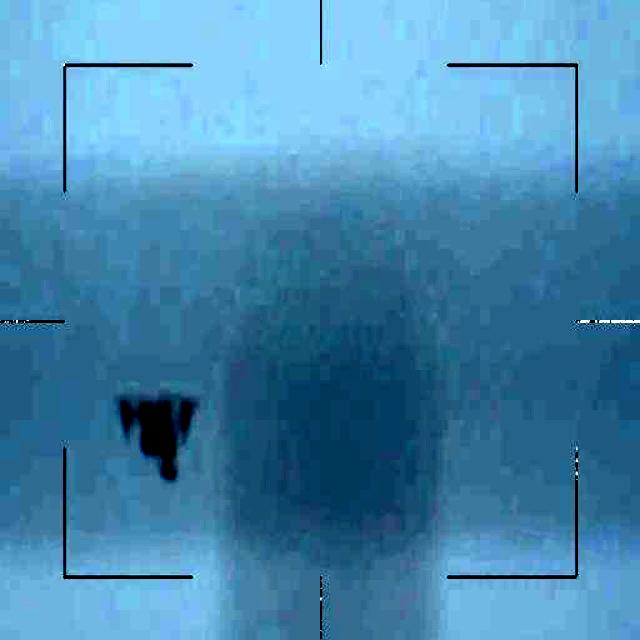bird: (119, 389, 204, 482)
